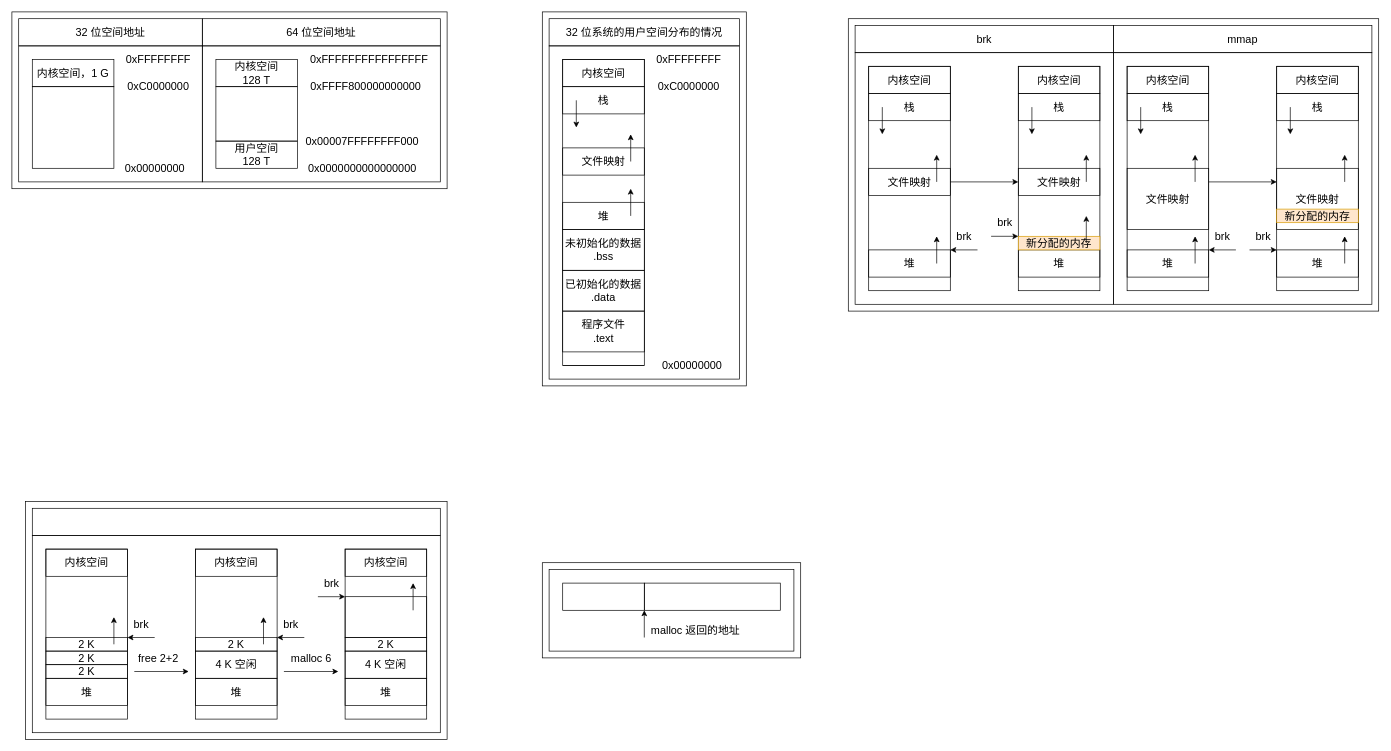
This 1391x751 diagram has some shape labels left out. Here are the shapes that lost their labels. From the top down, the box of each, then its label:
(32, 86, 114, 168): 用户空间，3 G
(215, 86, 298, 141): 未定义
(32, 508, 440, 536): 堆内存碎片
(562, 582, 644, 610): 内存块头信息
(644, 582, 780, 610): 用户可以使用的内存块
(344, 596, 427, 638): 6 K
